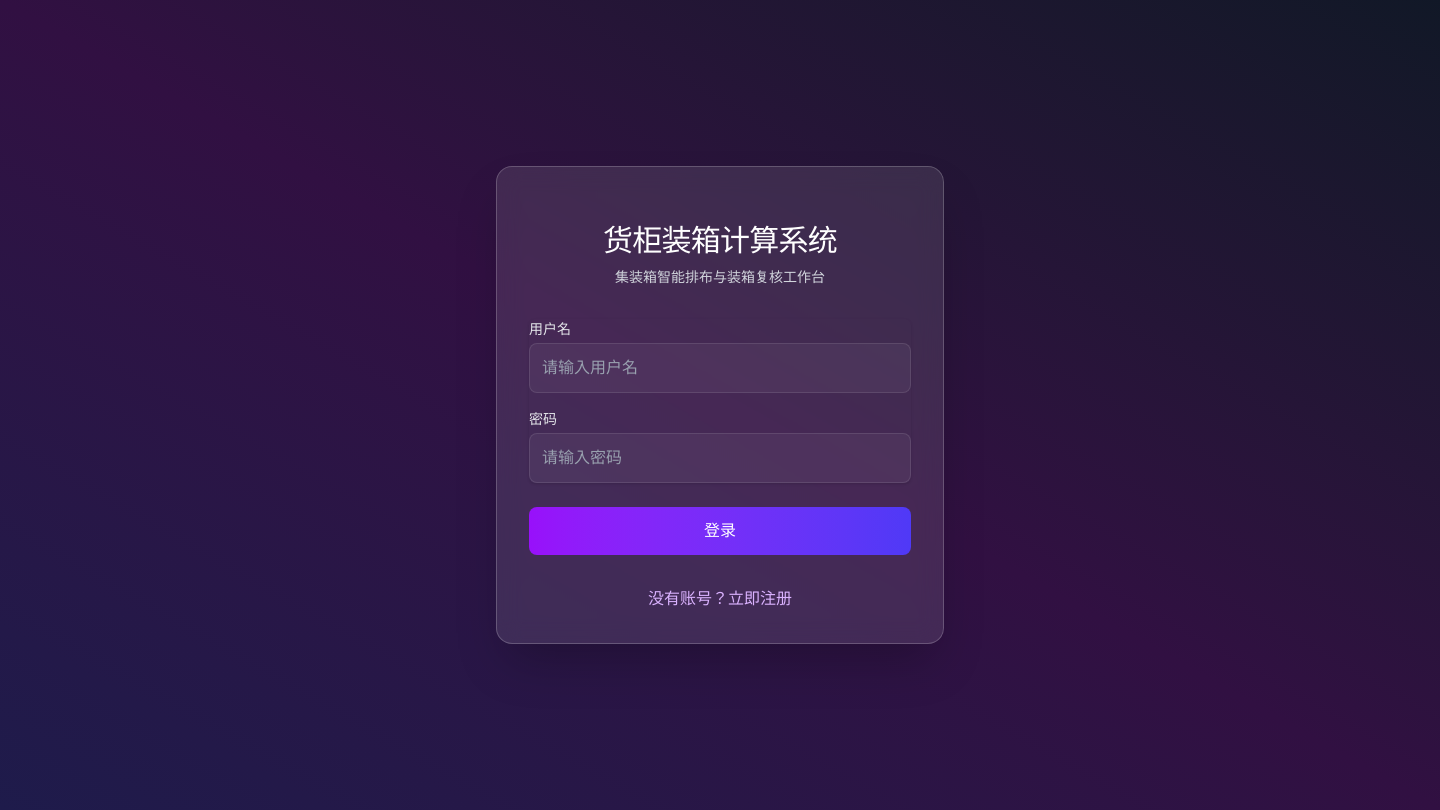
it: App authentication shell › switches between login and registration without mounting the workbench
What coordinates should you click on to do the following:
click the button "没有账号？立即注册"
I would click on:
 (720, 599)
Its box is [648,587,792,611].
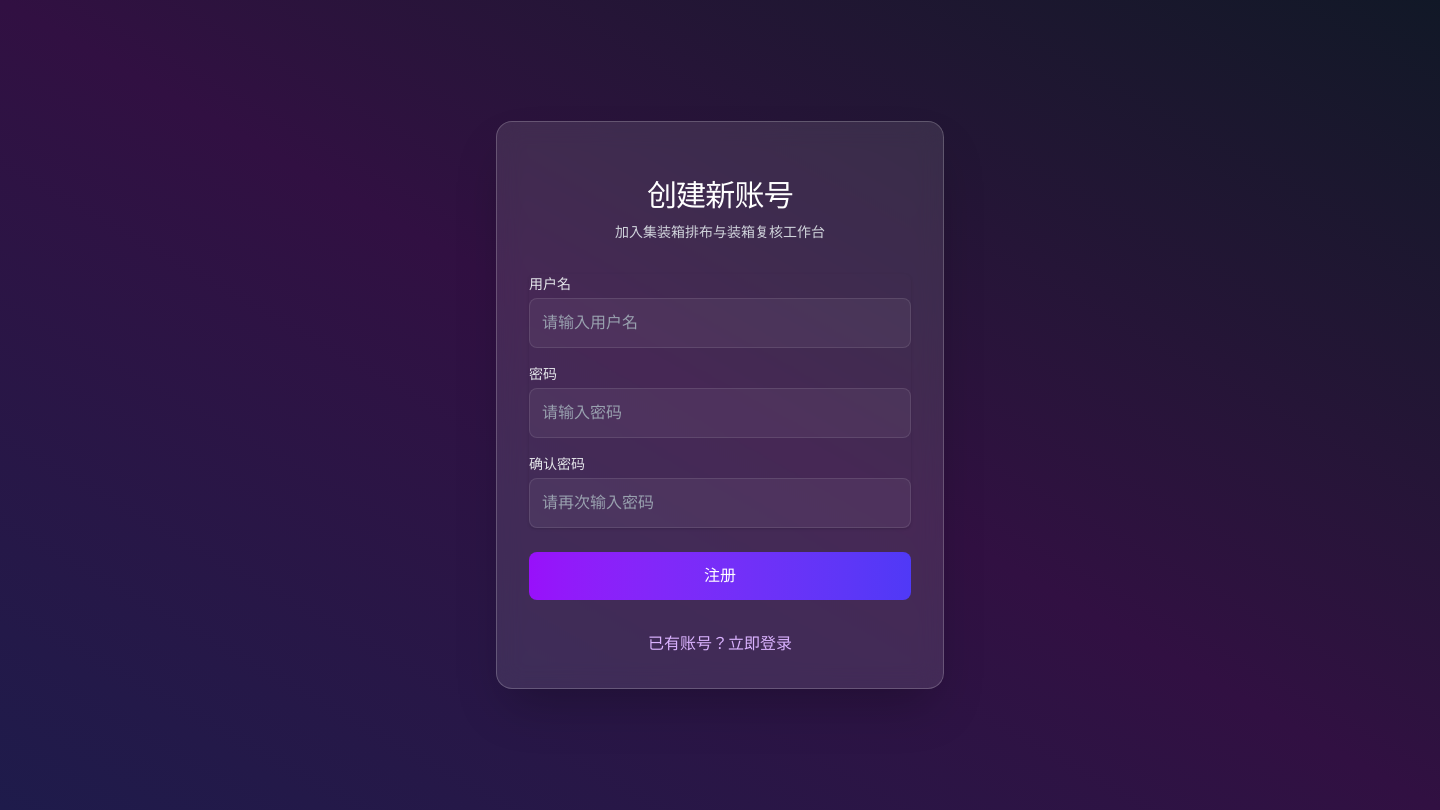
Expected: the button "注册" is shown, [529,552,911,600]
What coordinates should you click on to do the following:
click the button "已有账号？立即登录"
I would click on:
 (720, 644)
Its box is [648,632,792,656].
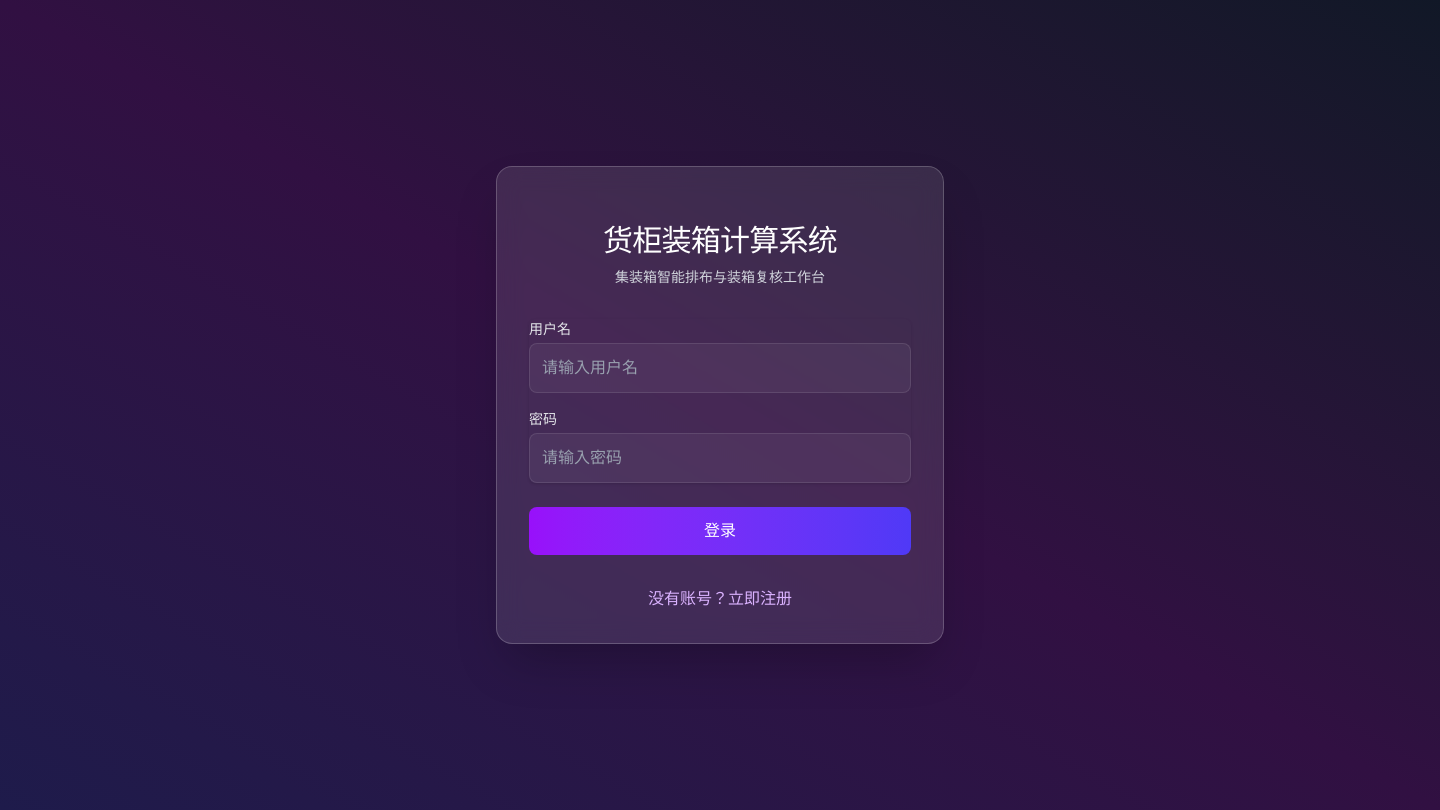
Expected: the button "登录" is shown, [529,507,911,555]
